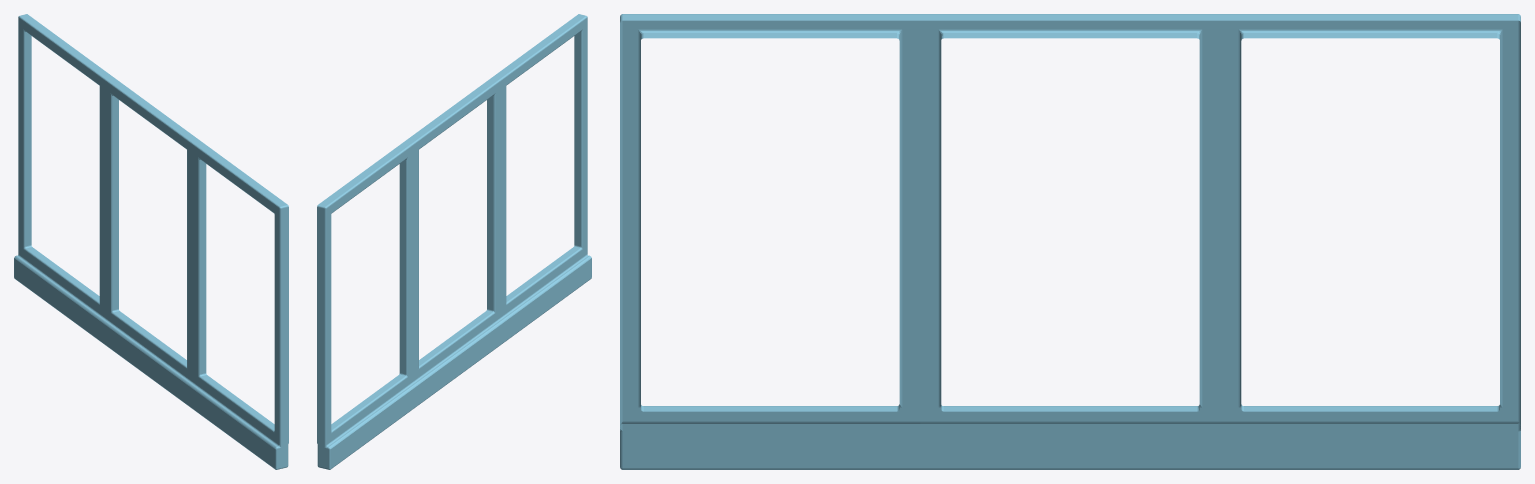
File: WallGlass.fbx
3 views of the same model, side by side, from view 1: azimuth 30°, elevation 25°; view 2: azimuth 150°, elevation 25°; view 3: azimuth 270°, elevation 25° (orthographic). The views are drawn at different scales.
Visible parts, largest first — view 1: Plane.003; view 2: Plane.003; view 3: Plane.003.
Part boxes in pixels (x1,y1,x2,y2): Plane.003: (14, 14, 288, 469); Plane.003: (317, 14, 591, 469); Plane.003: (620, 14, 1520, 469).
Bounding box in the file's own units: 22.66 × 434 × 786.
